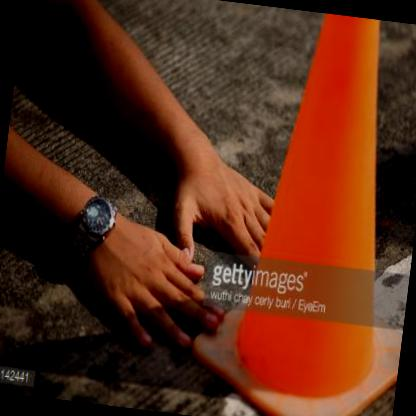cone: (221, 7, 415, 415)
